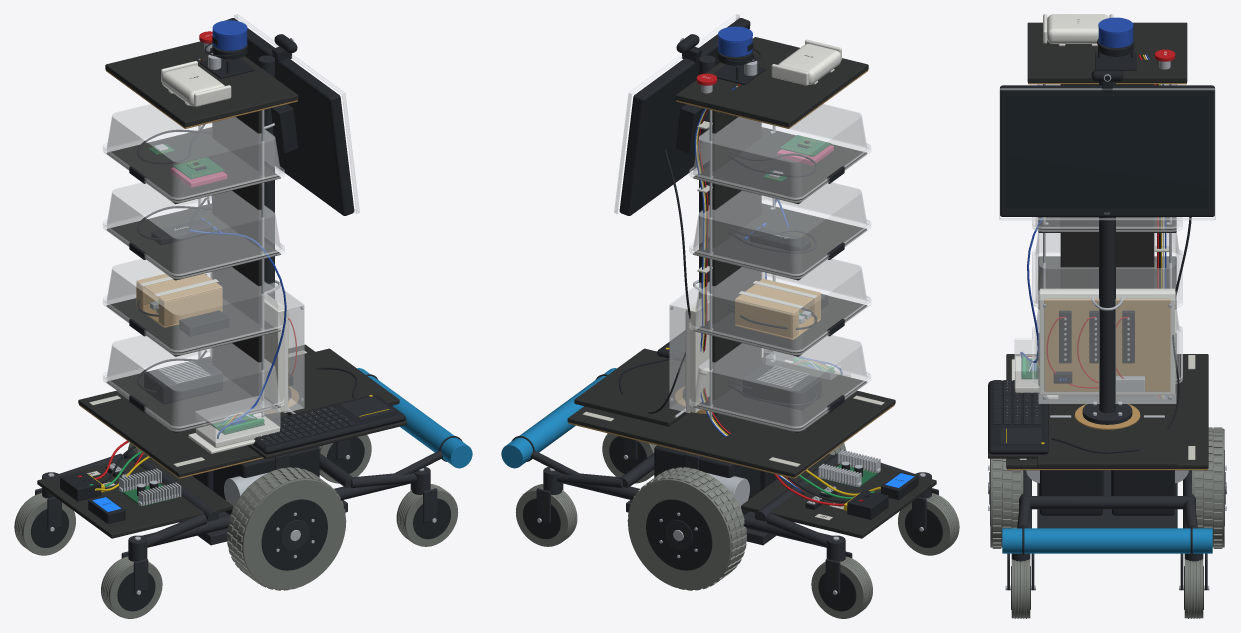
The model's file is club_robot.glb.
3 renders of one model, left to right at view 1: azimuth 30°, elevation 25°; view 2: azimuth 150°, elevation 25°; view 3: azimuth 270°, elevation 25°, orthographic.
Parts seen in each view (by area): view 1: Tray 04 clear cover, Tray 03 clear cover, Tray 02 clear cover, Tray 01 clear cover, Vertical black plywood spine, Acer monitor housing, Top shelf black paint, Main drive tire, Tray 03 shelf, Upper black deck, Tray 04 shelf, Rear low electronics deck (+37 smaller); view 2: Tray 04 clear cover, Tray 03 clear cover, Tray 02 clear cover, Tray 01 clear cover, Upper black deck, Vertical black plywood spine, Acer monitor housing, Top shelf black paint, Main drive tire.001, Tray 03 shelf, Tray 04 shelf, Front hinged service cover (+30 smaller); view 3: Unlit LCD glass, Power enclosure clear front, Power distribution plywood insert, Top shelf black paint, Front hinged service cover, Upper black deck, Vertical black plywood spine, Acer monitor housing, Blue pool noodle front bumper, Tray 02 clear cover, Round black steel mast, Power distribution enclosure back (+34 smaller).
Boxes of the visible parts, x1,y1,x2,y2 form: Tray 04 clear cover: (106, 104, 280, 199); Tray 03 clear cover: (106, 182, 280, 275); Tray 02 clear cover: (106, 259, 280, 351); Tray 01 clear cover: (106, 335, 280, 428); Vertical black plywood spine: (212, 110, 261, 412); Acer monitor housing: (225, 18, 354, 215); Top shelf black paint: (105, 41, 298, 127); Main drive tire: (227, 468, 345, 589); Tray 03 shelf: (107, 203, 280, 280); Upper black deck: (78, 344, 406, 477); Tray 04 shelf: (106, 127, 280, 204); Rear low electronics deck: (37, 454, 232, 538); Tray 04 clear cover: (693, 104, 867, 199); Tray 03 clear cover: (693, 182, 867, 275); Tray 02 clear cover: (693, 259, 867, 351); Tray 01 clear cover: (693, 335, 867, 428); Upper black deck: (567, 390, 895, 477); Vertical black plywood spine: (712, 110, 761, 415); Acer monitor housing: (619, 18, 750, 215); Top shelf black paint: (675, 37, 868, 127); Main drive tire.001: (628, 468, 746, 589); Tray 03 shelf: (693, 203, 866, 280); Tray 04 shelf: (693, 127, 867, 204); Front hinged service cover: (574, 348, 688, 426); Unlit LCD glass: (1006, 95, 1208, 208); Power enclosure clear front: (1039, 300, 1175, 403); Power distribution plywood insert: (1044, 298, 1170, 391); Top shelf black paint: (1027, 22, 1187, 82); Front hinged service cover: (1037, 417, 1177, 468); Upper black deck: (1006, 354, 1208, 468); Vertical black plywood spine: (1060, 84, 1154, 396); Acer monitor housing: (1000, 85, 1214, 216); Blue pool noodle front bumper: (1002, 528, 1212, 553); Tray 02 clear cover: (1035, 232, 1179, 303); Round black steel mast: (1099, 81, 1115, 412); Power distribution enclosure back: (1039, 288, 1175, 394).
Size of the model in its own units: 0.8882 by 1.22 by 0.51.
